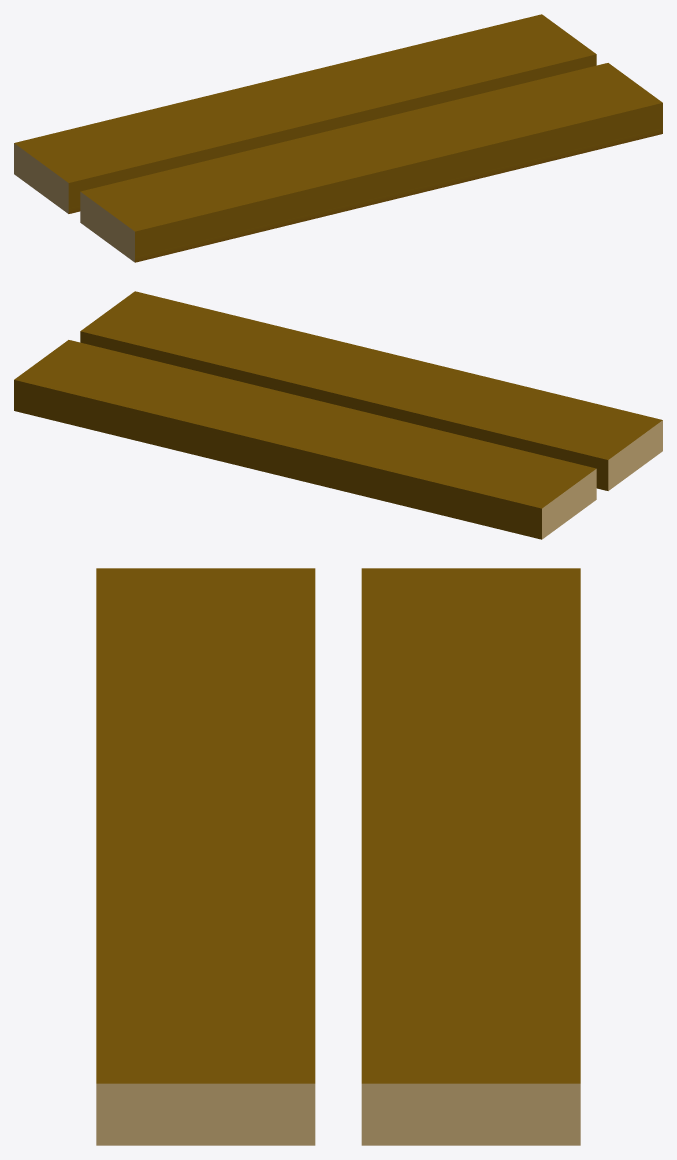
The model's file is Bridge_Planksx2.fbx.
3 renders of one model, top to bottom at view 1: azimuth 30°, elevation 25°; view 2: azimuth 150°, elevation 25°; view 3: azimuth 270°, elevation 25°, orthographic. The views are drawn at different scales.
Parts seen in each view (by area): view 1: Bridge_Planksx2; view 2: Bridge_Planksx2; view 3: Bridge_Planksx2.
Boxes of the visible parts, left/top/right/bottom form: Bridge_Planksx2: left=14, top=14, right=662, bottom=262; Bridge_Planksx2: left=14, top=291, right=662, bottom=539; Bridge_Planksx2: left=96, top=568, right=580, bottom=1145.
Size of the model in its own units: 3 by 0.1691 by 1.19.
